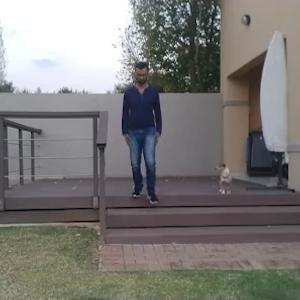follow: (120, 63, 156, 206)
